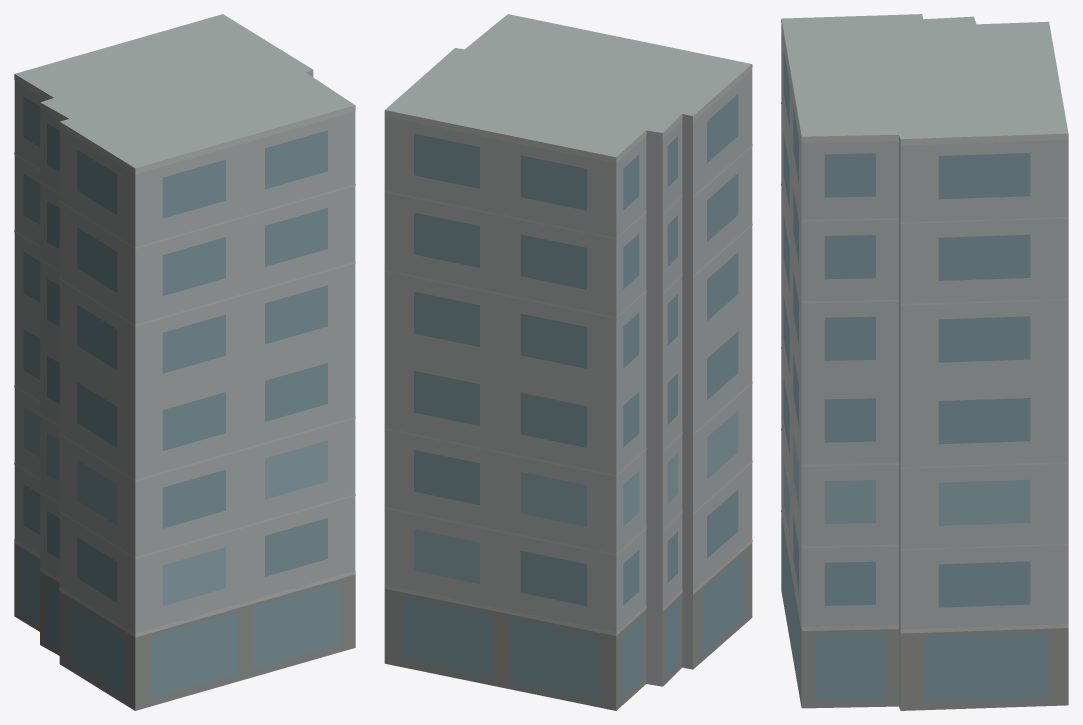
The model's file is survey-upis-32682544.glb.
3 views of the same model, side by side, from view 1: azimuth 30°, elevation 25°; view 2: azimuth 150°, elevation 25°; view 3: azimuth 270°, elevation 25° (orthographic). The views are drawn at different scales.
Parts seen in each view (by area): view 1: survey-upis-32682544.tmp; view 2: survey-upis-32682544.tmp; view 3: survey-upis-32682544.tmp.
Boxes of the visible parts, box(x1,y1,x2,y2) form: survey-upis-32682544.tmp: box(14, 14, 355, 710); survey-upis-32682544.tmp: box(384, 14, 752, 710); survey-upis-32682544.tmp: box(781, 14, 1068, 710).
Bounding box in the file's own units: 10.22 × 21.7 × 9.9.
